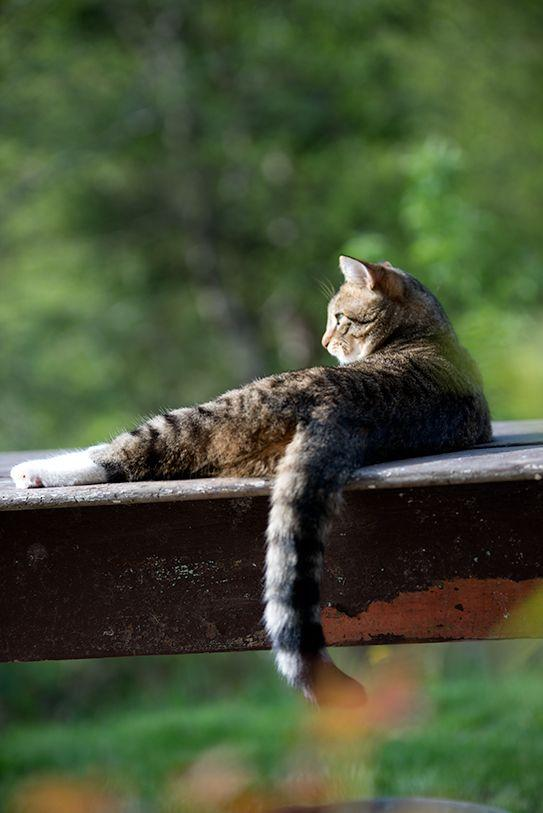kedo: (16, 253, 491, 700)
